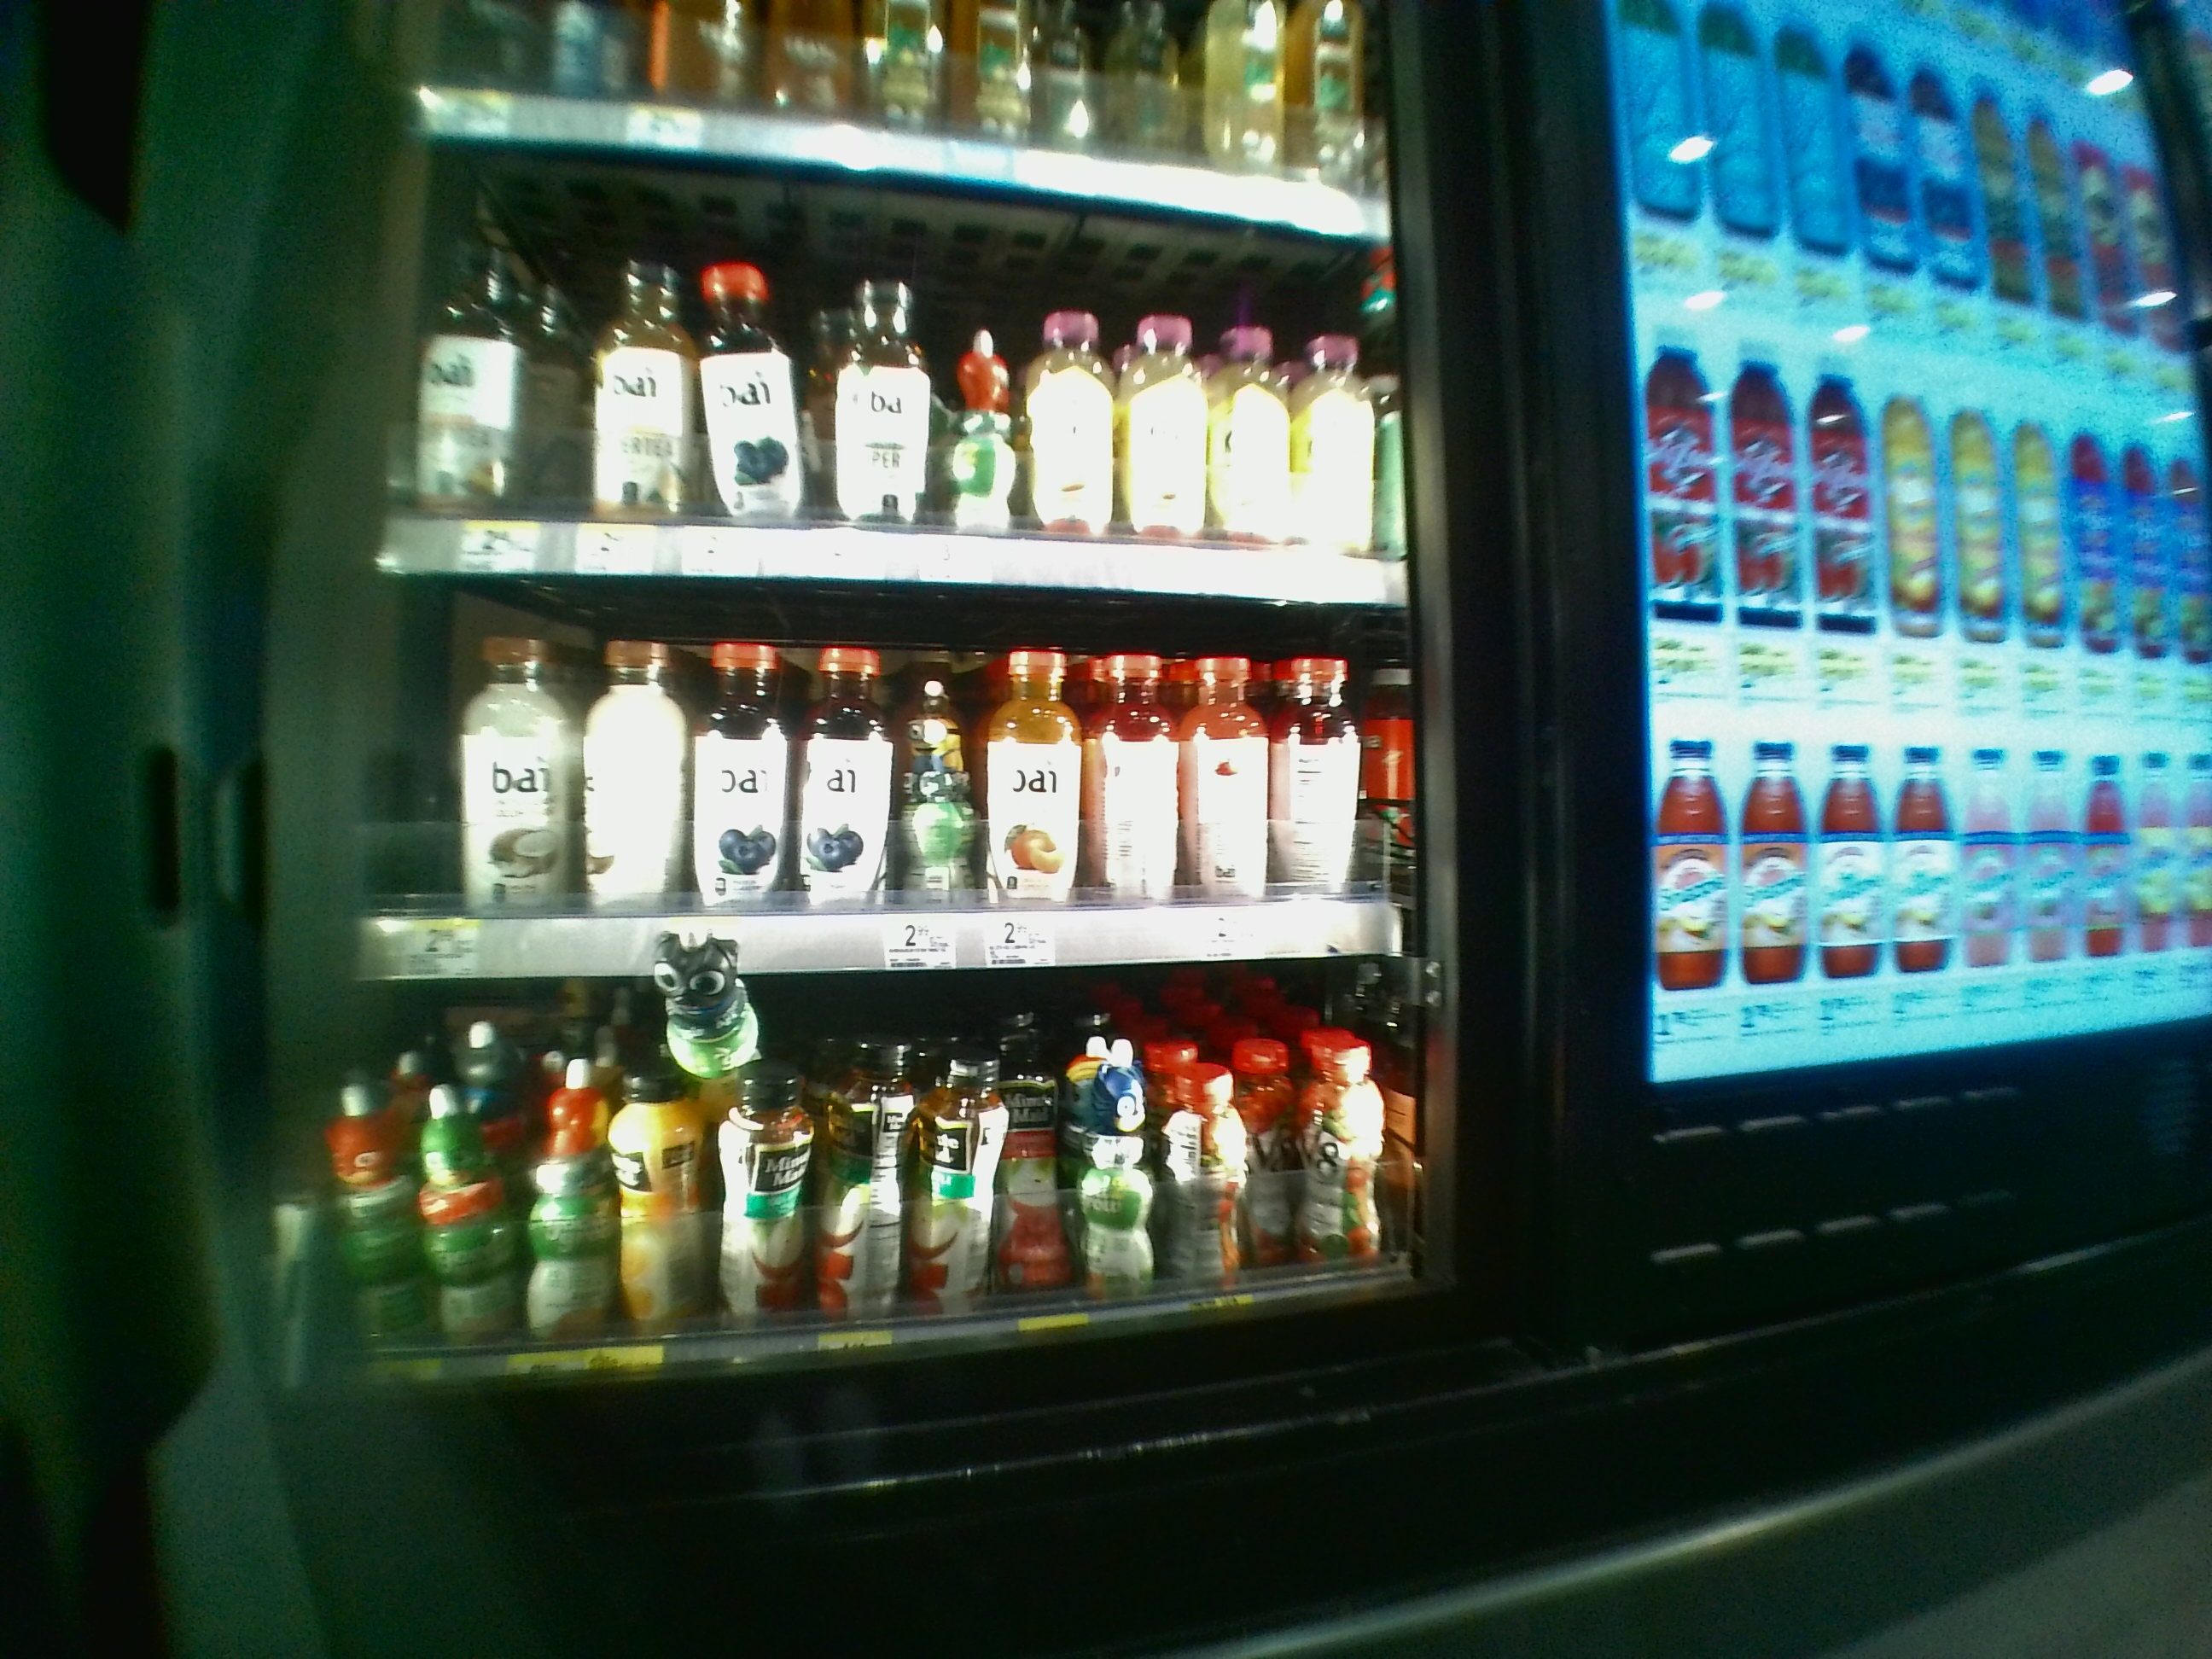shelf: (369, 134, 1406, 575), (336, 988, 1425, 1378), (355, 592, 1413, 972)
